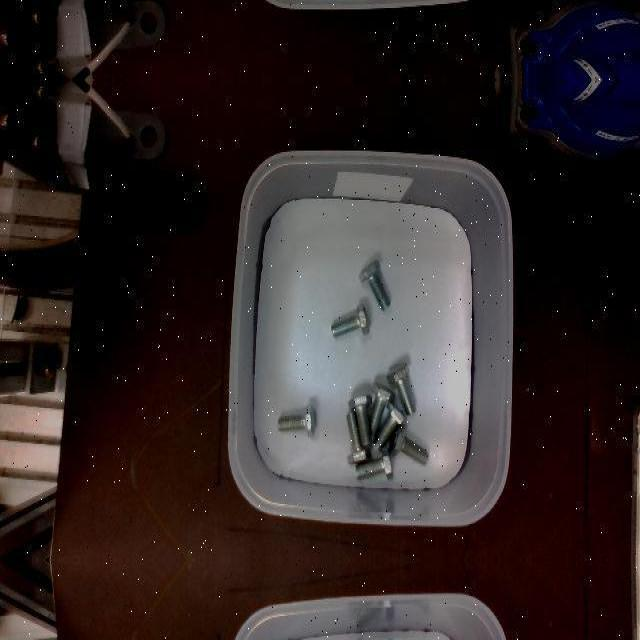screw: (388, 423, 429, 465), (358, 258, 390, 310), (386, 361, 415, 415), (346, 410, 371, 464), (331, 303, 369, 337), (355, 445, 393, 479), (278, 403, 315, 437), (348, 394, 372, 446)
